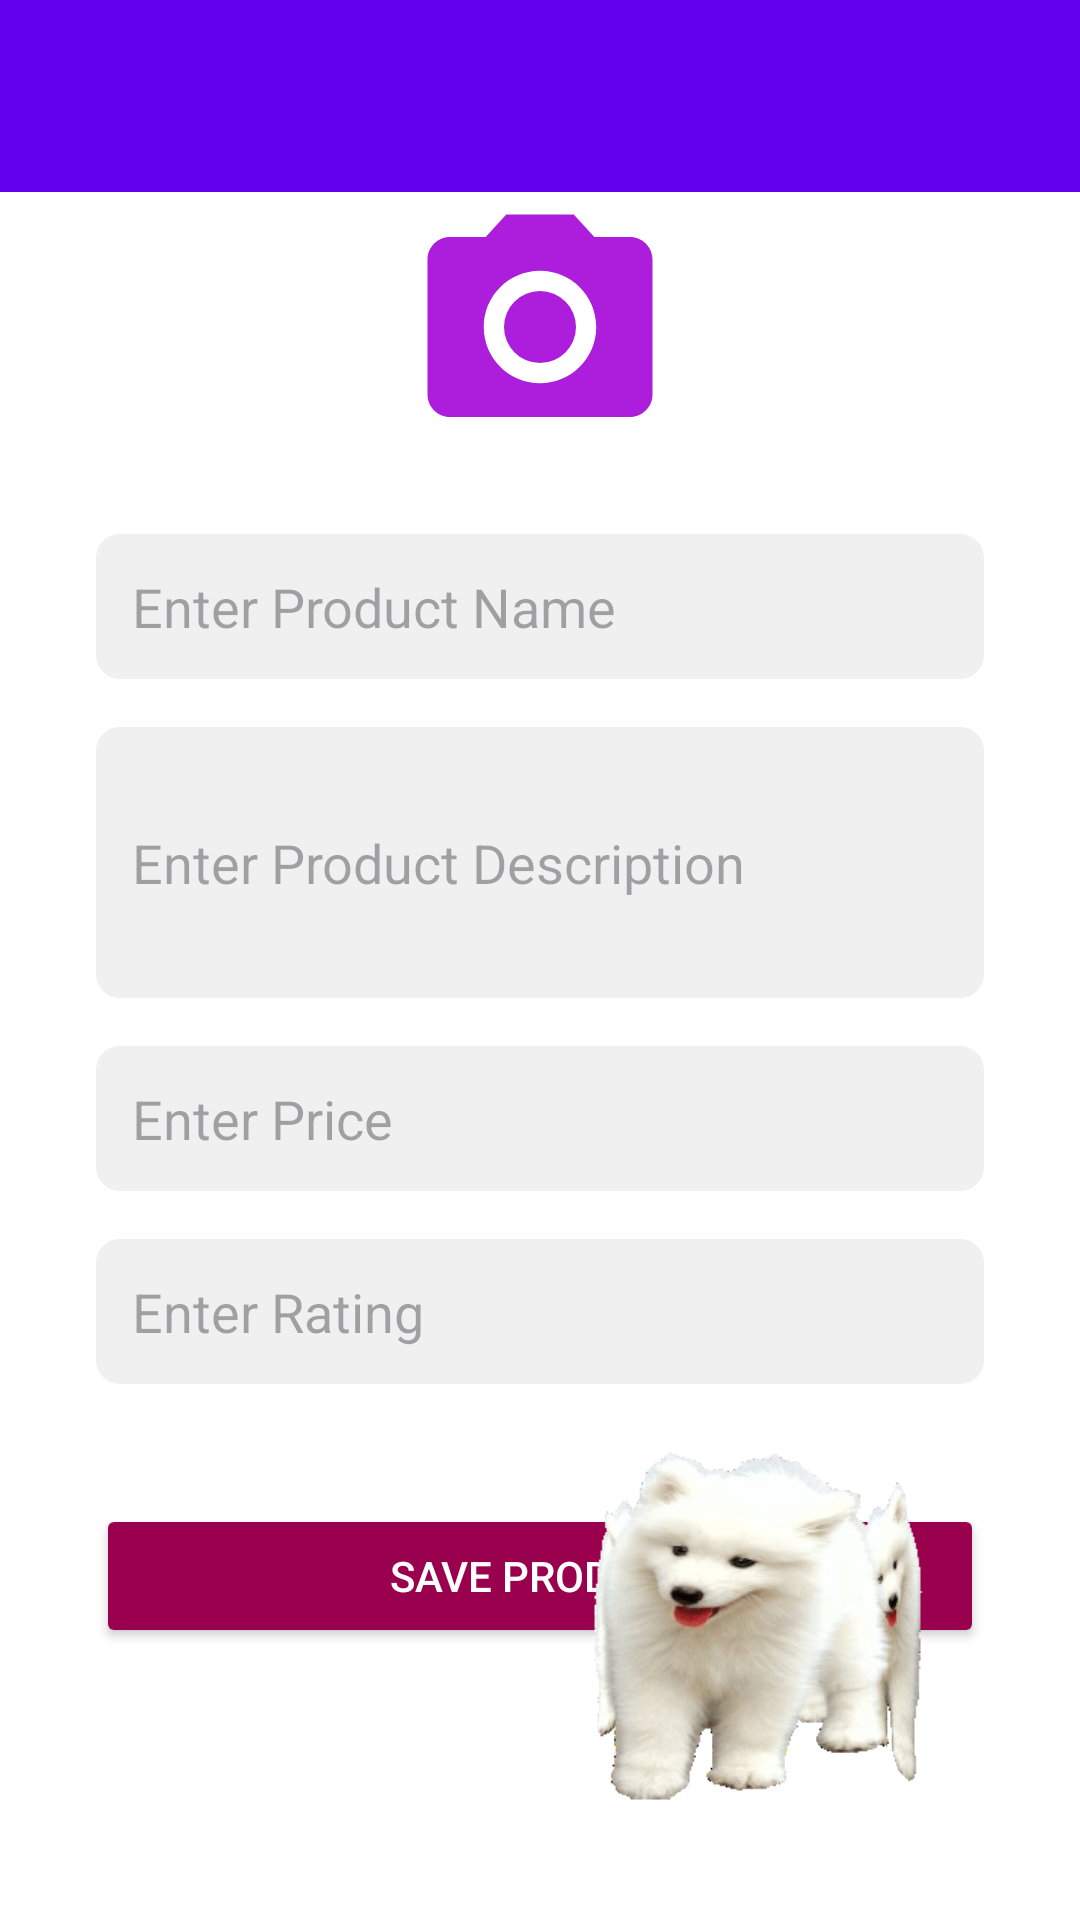

Icon bounding boxes for this 1080x1920 phone screenshot, format (x1, y1, x2, y2):
Add Product Image: (427, 214, 653, 417)
